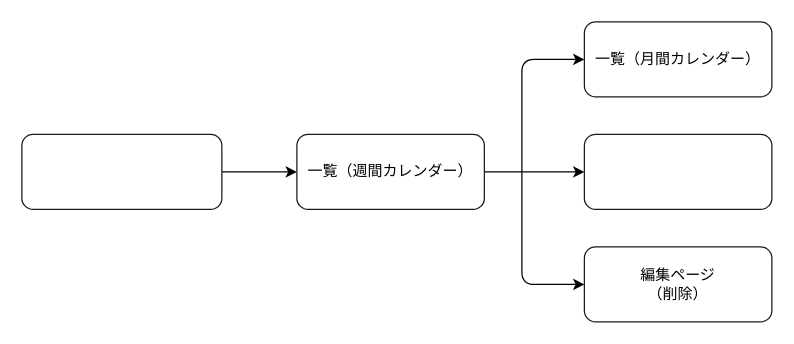
Image size: 794x344. Some labels were removed from this diagram. Each missing label, with the centre of its shape:
"スケジュール入力ページ" goes at point 677,171.
"ユーザーログインページ or ユーザー新規登録ページ" goes at point 121,171.
